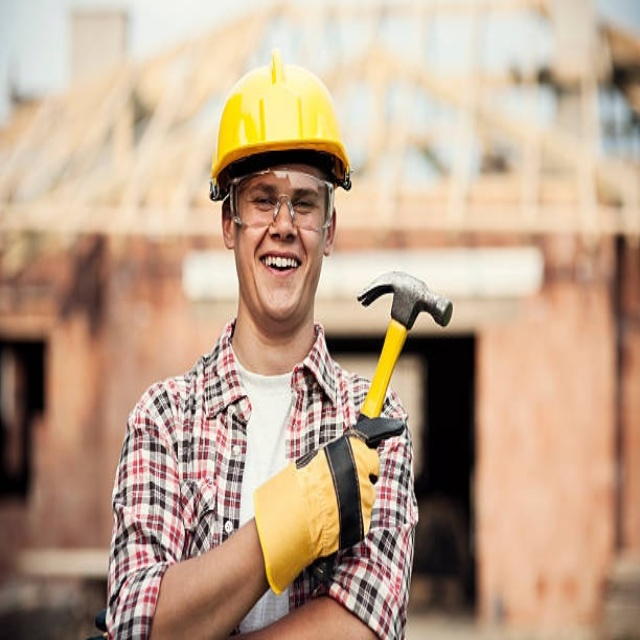Gafas: (226, 173, 336, 234)
Guantes: (252, 426, 382, 594)
Sin_mascara: (250, 240, 304, 301)
